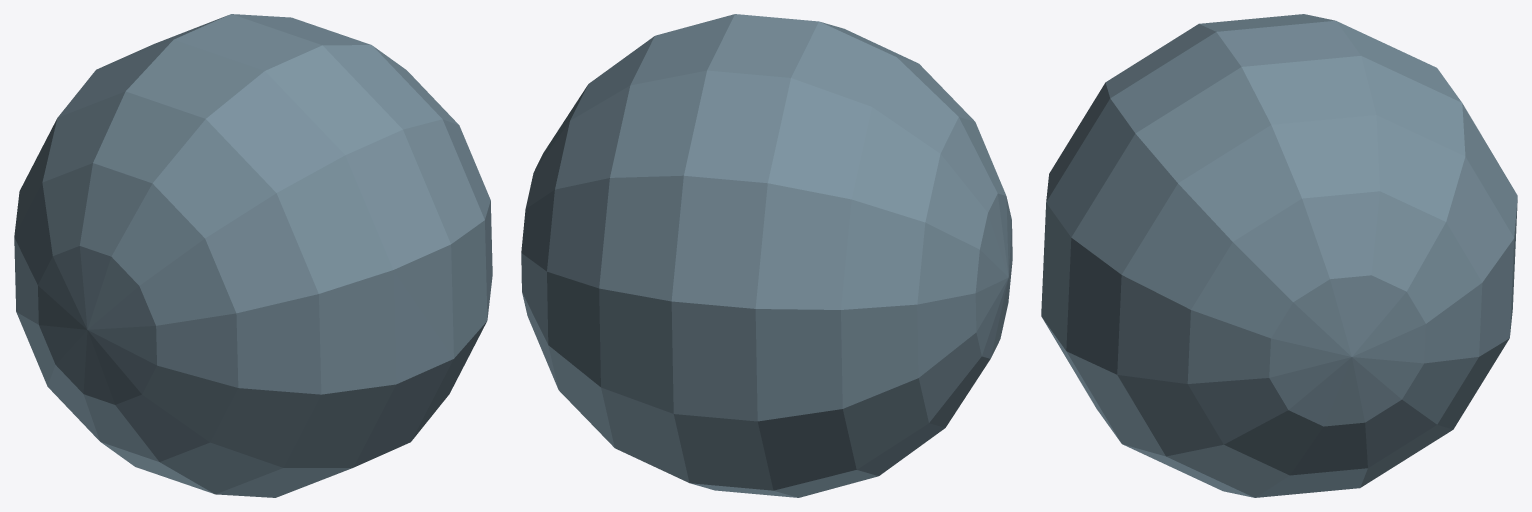
Rendered from astronaut_base_group1163682321_lev4.glb.
3 views of the same model, side by side, from view 1: azimuth 30°, elevation 25°; view 2: azimuth 150°, elevation 25°; view 3: azimuth 270°, elevation 25° (orthographic).
Parts seen in each view (by area): view 1: astronaut_base_group1163682321_lev4; view 2: astronaut_base_group1163682321_lev4; view 3: astronaut_base_group1163682321_lev4.
Boxes of the visible parts, x1,y1,x2,y2 form: astronaut_base_group1163682321_lev4: [14, 14, 492, 497]; astronaut_base_group1163682321_lev4: [521, 14, 1012, 497]; astronaut_base_group1163682321_lev4: [1041, 14, 1517, 497].
Size of the model in its own units: 0.0329 by 0.0318 by 0.0321.
